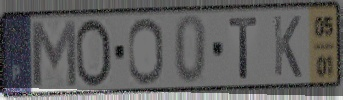0: (172, 12, 210, 87)
K: (271, 13, 303, 80)
M: (28, 18, 79, 89)
O: (74, 17, 114, 89), (126, 16, 166, 87)
T: (227, 15, 260, 81)
